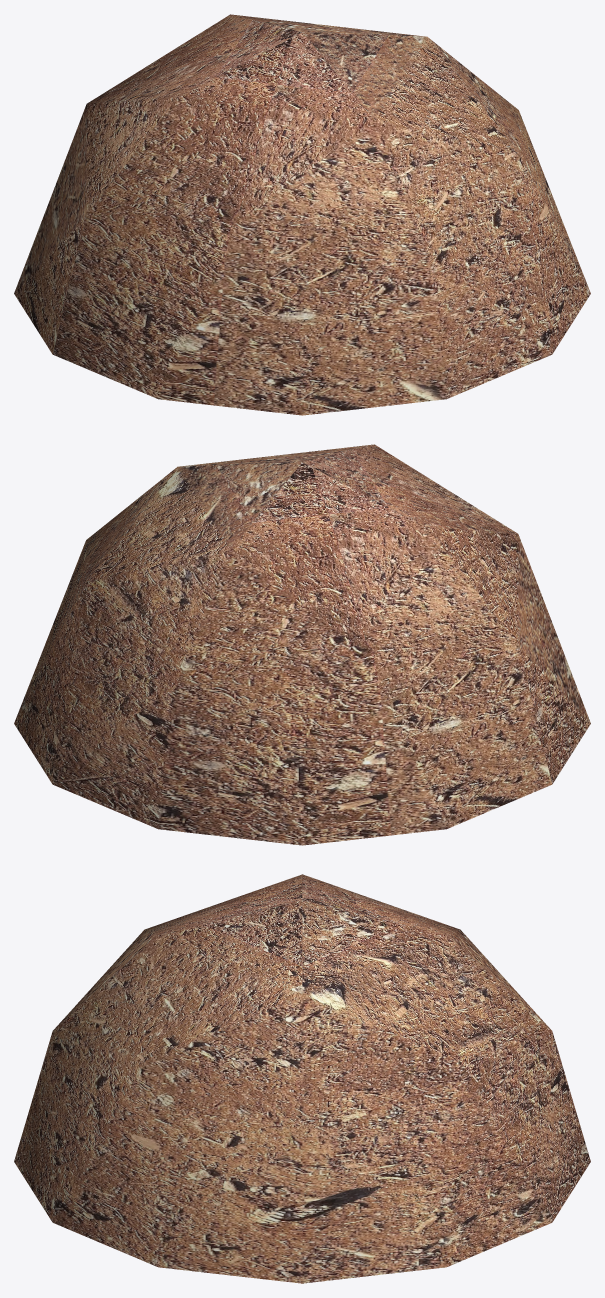
File: stein1.DAE
3 views of the same model, one above another, from view 1: azimuth 30°, elevation 25°; view 2: azimuth 150°, elevation 25°; view 3: azimuth 270°, elevation 25° (orthographic).
Parts seen in each view (by area): view 1: Geosph_re001; view 2: Geosph_re001; view 3: Geosph_re001.
Part boxes in pixels (left/top/right/bottom): Geosph_re001: left=14, top=14, right=590, bottom=415; Geosph_re001: left=14, top=444, right=590, bottom=845; Geosph_re001: left=14, top=874, right=590, bottom=1283.
Size of the model in its own units: 40.78 by 40.78 by 20.39.
